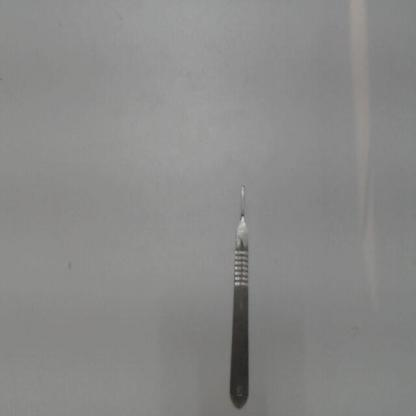No.3 BP Handle: (222, 176, 256, 413)
